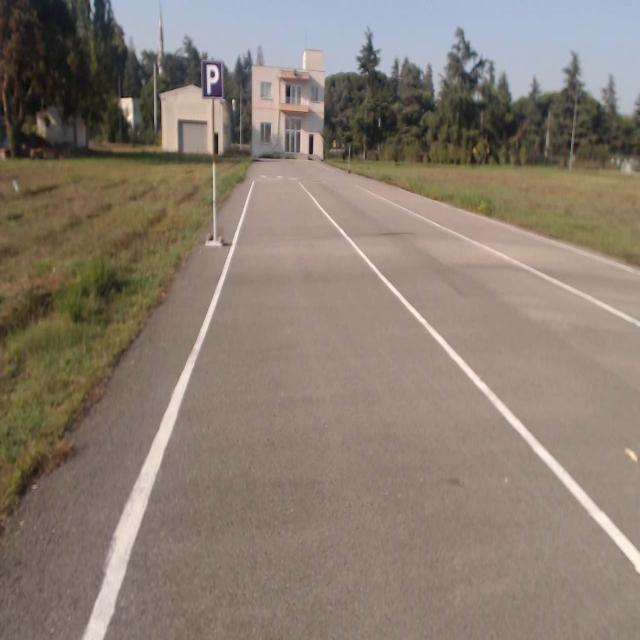park: (201, 61, 223, 99)
